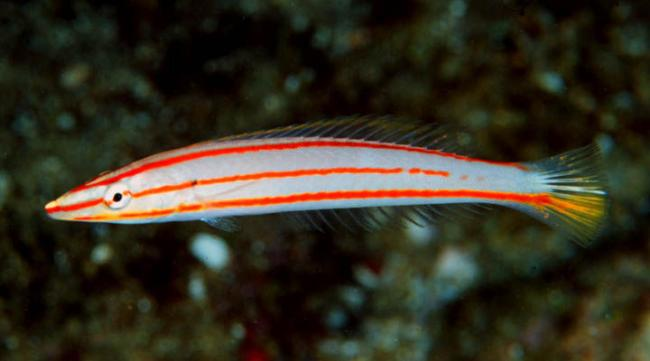fish: (45, 114, 610, 244)
